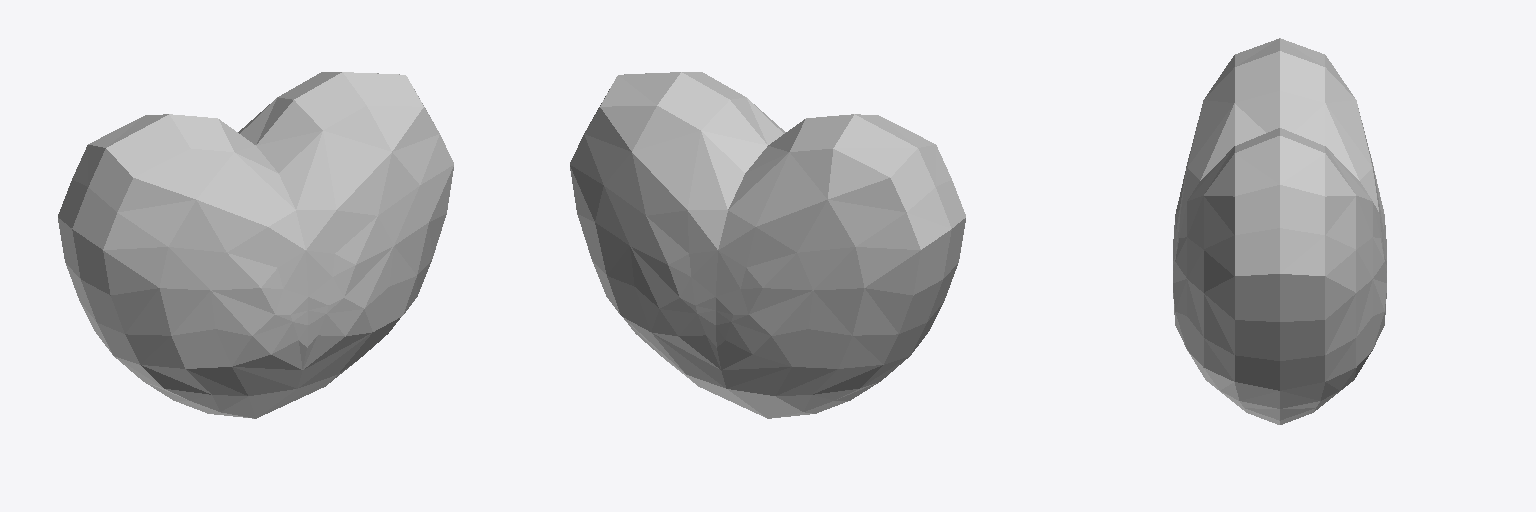
The model's file is heart@heart1.001.obj.
The picture shows the model from 3 angles: view 1: azimuth 30°, elevation 25°; view 2: azimuth 150°, elevation 25°; view 3: azimuth 270°, elevation 25°; orthographic projection.
Parts seen in each view (by area): view 1: Cube_Cube.003; view 2: Cube_Cube.003; view 3: Cube_Cube.003.
Boxes of the visible parts, <box> form: Cube_Cube.003: <box>58,72,453,418</box>; Cube_Cube.003: <box>570,72,965,418</box>; Cube_Cube.003: <box>1173,38,1386,424</box>.
Size of the model in its own units: 2.37 by 2 by 1.2.